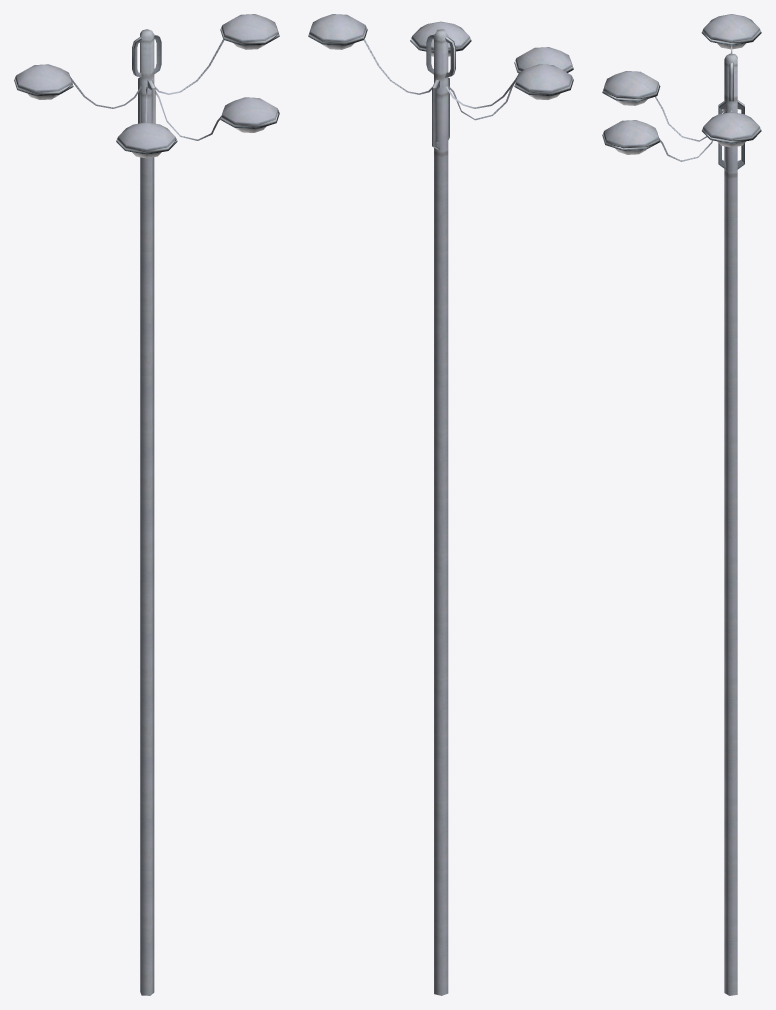
File: frn_all_streetlamp_m_s2_l0.fbx
3 renders of one model, left to right at view 1: azimuth 30°, elevation 25°; view 2: azimuth 150°, elevation 25°; view 3: azimuth 270°, elevation 25°, orthographic. The views are drawn at different scales.
Visible parts, largest first — view 1: mesh_node; view 2: mesh_node; view 3: mesh_node.
Part boxes in pixels (x1,y1,x2,y2): mesh_node: [14, 14, 279, 995]; mesh_node: [308, 14, 573, 995]; mesh_node: [602, 14, 761, 995].
Bounding box in the file's own units: 8.49 × 30.05 × 4.63.
2 materials, 2 textured.
